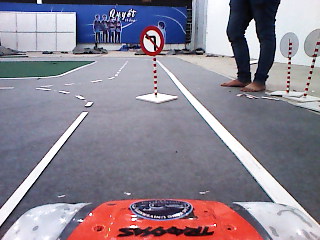ban: (139, 25, 165, 56)
